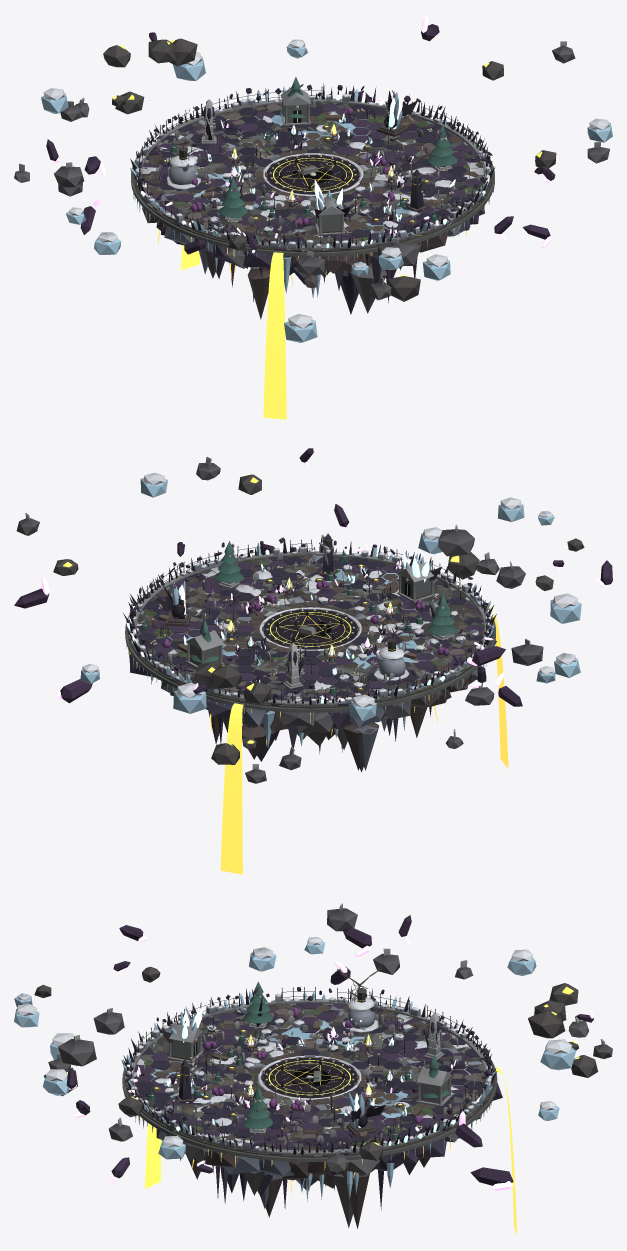
File: islands.glb
3 renders of one model, top to bottom at view 1: azimuth 30°, elevation 25°; view 2: azimuth 150°, elevation 25°; view 3: azimuth 270°, elevation 25°, orthographic. The views are drawn at different scales.
Parts seen in each view (by area): view 1: hell_lavafall_1, hell_core, void_sector_2, void_sector_1, void_sector_4, crypt_sector_7, void_sector_11, void_sector_9, void_sector_3, void_sector_0, crypt_sector_6, void_sector_10 (+54 smaller); view 2: hell_lavafall_0, hell_core, void_sector_4, void_sector_11, void_sector_9, crypt_sector_3, void_sector_10, void_sector_1, void_sector_6, crypt_sector_4, void_sector_0, crypt_sector_5 (+55 smaller); view 3: hell_core, void_sector_4, void_sector_11, crypt_sector_11, void_sector_9, void_sector_2, void_sector_0, void_sector_10, crypt_sector_0, crypt_sector_10, void_sector_6, void_sector_1 (+67 smaller).
Part boxes in pixels (bbox=[...]): hell_lavafall_1: bbox=[263, 252, 286, 419]; hell_core: bbox=[266, 155, 359, 194]; void_sector_2: bbox=[229, 84, 323, 154]; void_sector_1: bbox=[317, 85, 402, 155]; void_sector_4: bbox=[143, 128, 274, 174]; crypt_sector_7: bbox=[220, 192, 316, 256]; void_sector_11: bbox=[366, 127, 492, 178]; void_sector_9: bbox=[335, 190, 461, 236]; void_sector_3: bbox=[162, 102, 290, 155]; void_sector_0: bbox=[353, 95, 464, 165]; crypt_sector_6: bbox=[155, 184, 281, 246]; void_sector_10: bbox=[355, 156, 490, 209]; hell_lavafall_0: bbox=[220, 703, 243, 874]; hell_core: bbox=[263, 609, 357, 649]; void_sector_4: bbox=[300, 649, 386, 705]; void_sector_11: bbox=[157, 552, 274, 615]; void_sector_9: bbox=[312, 540, 401, 608]; crypt_sector_3: bbox=[218, 652, 316, 712]; void_sector_10: bbox=[221, 537, 320, 607]; void_sector_1: bbox=[131, 621, 254, 660]; void_sector_6: bbox=[349, 617, 493, 668]; crypt_sector_4: bbox=[304, 650, 407, 712]; void_sector_0: bbox=[130, 583, 268, 628]; crypt_sector_5: bbox=[346, 640, 471, 701]; hell_core: bbox=[262, 1057, 357, 1098]; void_sector_4: bbox=[349, 1015, 466, 1069]; void_sector_11: bbox=[220, 1095, 310, 1154]; crypt_sector_11: bbox=[216, 1094, 313, 1161]; void_sector_9: bbox=[125, 1067, 253, 1110]; void_sector_2: bbox=[351, 1064, 491, 1116]; void_sector_0: bbox=[299, 1099, 395, 1154]; void_sector_10: bbox=[155, 1087, 269, 1136]; crypt_sector_0: bbox=[304, 1094, 403, 1161]; crypt_sector_10: bbox=[147, 1087, 283, 1151]; void_sector_6: bbox=[217, 983, 320, 1057]; void_sector_1: bbox=[332, 1094, 464, 1141].
Size of the model in its own units: 74.98 by 31.4 by 73.32.
